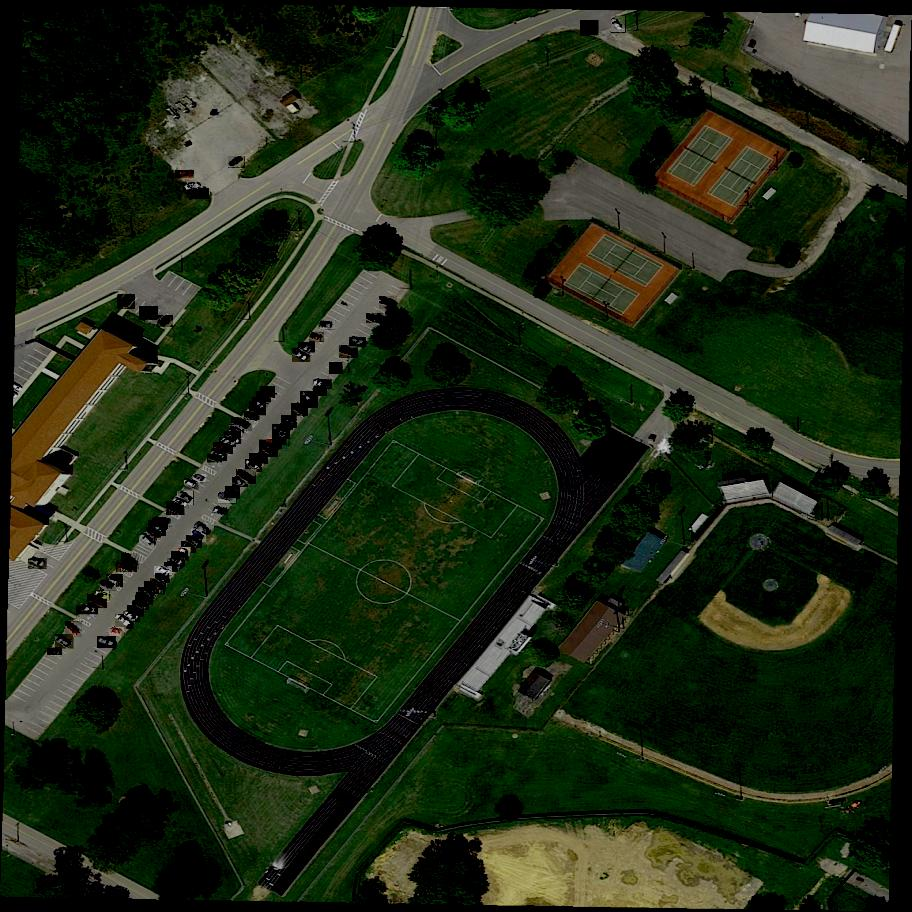small-vehicle: (300, 390, 318, 410), (580, 20, 599, 38), (260, 440, 278, 459), (148, 519, 166, 537), (273, 424, 291, 442), (117, 294, 136, 311), (237, 469, 256, 486), (232, 417, 252, 433), (88, 593, 108, 609), (195, 521, 212, 539), (122, 553, 139, 571), (116, 614, 134, 631), (65, 621, 82, 639), (56, 633, 74, 650), (140, 306, 159, 322), (292, 348, 312, 363), (213, 442, 234, 456), (139, 532, 156, 549), (249, 401, 266, 418), (167, 501, 185, 517), (136, 592, 154, 608), (178, 490, 195, 506), (611, 16, 627, 33), (106, 574, 124, 589), (219, 492, 238, 506), (340, 345, 359, 359), (246, 459, 263, 474), (292, 403, 309, 418), (379, 296, 398, 309), (184, 478, 200, 493), (186, 535, 202, 550), (229, 156, 245, 171), (281, 414, 297, 429), (172, 497, 189, 511), (225, 431, 242, 445), (100, 580, 117, 594), (127, 605, 145, 618), (116, 562, 137, 573), (181, 540, 196, 555), (191, 529, 206, 544), (225, 486, 241, 500), (157, 316, 173, 330), (139, 587, 155, 601), (211, 449, 228, 462), (152, 517, 172, 528), (171, 552, 189, 564), (191, 188, 209, 200), (98, 637, 116, 649), (250, 453, 268, 465), (151, 577, 166, 591), (253, 397, 267, 412), (261, 386, 276, 400), (313, 379, 332, 390), (124, 610, 140, 623), (298, 342, 315, 354), (28, 559, 46, 570), (155, 566, 173, 577), (132, 600, 150, 611), (147, 526, 161, 540), (230, 424, 245, 437), (145, 582, 160, 595), (232, 477, 248, 489), (366, 313, 382, 325), (77, 606, 98, 615), (168, 558, 185, 569), (257, 391, 271, 404), (329, 362, 343, 375), (110, 627, 125, 639), (267, 439, 283, 450), (219, 438, 236, 448), (349, 337, 366, 347), (313, 385, 327, 397), (155, 573, 170, 584), (309, 332, 324, 343), (272, 435, 287, 446), (165, 562, 178, 574), (193, 474, 206, 486), (184, 183, 201, 192), (207, 455, 222, 465), (244, 411, 260, 420), (320, 322, 335, 331), (214, 507, 227, 517), (178, 547, 191, 557), (176, 170, 194, 177), (97, 591, 111, 600), (280, 423, 293, 432), (48, 648, 62, 656)
